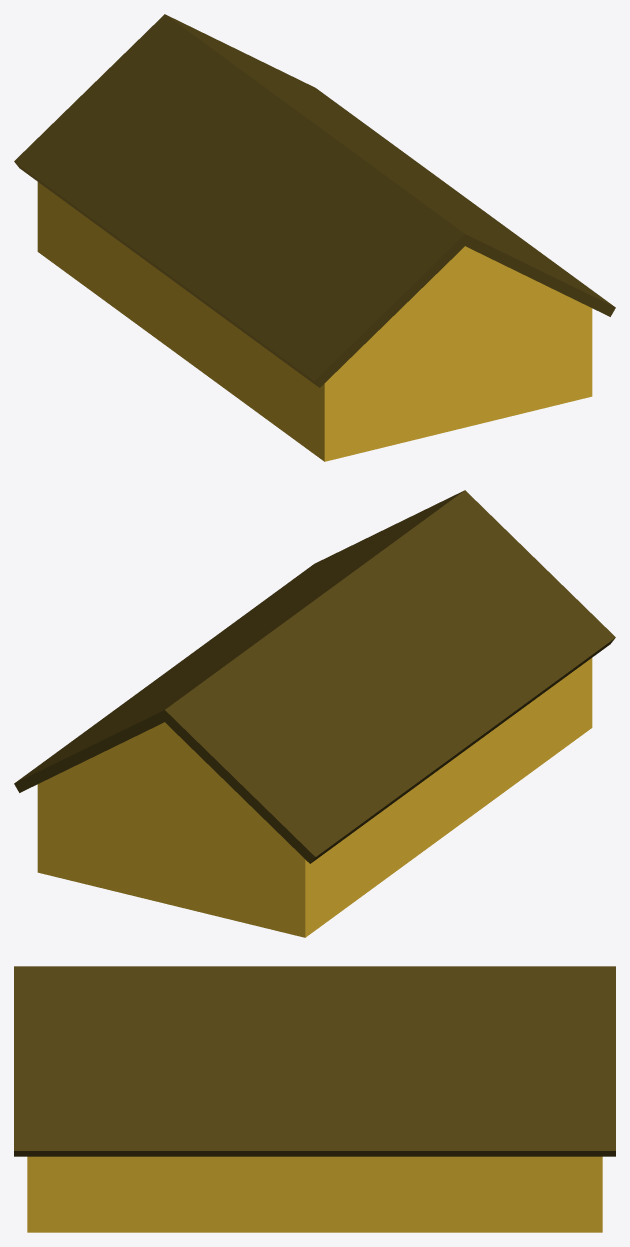
The model's file is result.dae.
The picture shows the model from 3 angles, top to bottom: view 1: azimuth 30°, elevation 25°; view 2: azimuth 150°, elevation 25°; view 3: azimuth 270°, elevation 25°; orthographic projection.
Parts seen in each view (by area): view 1: 41939d27-b2f1-4394-aab9-4605e44f525e__undefined (×5), baf8c1dc-3dbd-4e20-a15e-586f810ffb3a__undefined (×2); view 2: 41939d27-b2f1-4394-aab9-4605e44f525e__undefined (×5), baf8c1dc-3dbd-4e20-a15e-586f810ffb3a__undefined (×2); view 3: 41939d27-b2f1-4394-aab9-4605e44f525e__undefined (×2), baf8c1dc-3dbd-4e20-a15e-586f810ffb3a__undefined.
Boxes of the visible parts, <box> form: 41939d27-b2f1-4394-aab9-4605e44f525e__undefined (×5): <box>14,14,615,387</box>; baf8c1dc-3dbd-4e20-a15e-586f810ffb3a__undefined (×2): <box>37,182,592,461</box>; 41939d27-b2f1-4394-aab9-4605e44f525e__undefined (×5): <box>14,490,615,863</box>; baf8c1dc-3dbd-4e20-a15e-586f810ffb3a__undefined (×2): <box>37,658,592,937</box>; 41939d27-b2f1-4394-aab9-4605e44f525e__undefined (×2): <box>14,966,615,1156</box>; baf8c1dc-3dbd-4e20-a15e-586f810ffb3a__undefined: <box>27,1156,602,1232</box>.
Size of the model in its own units: 789 by 500 by 1360.
